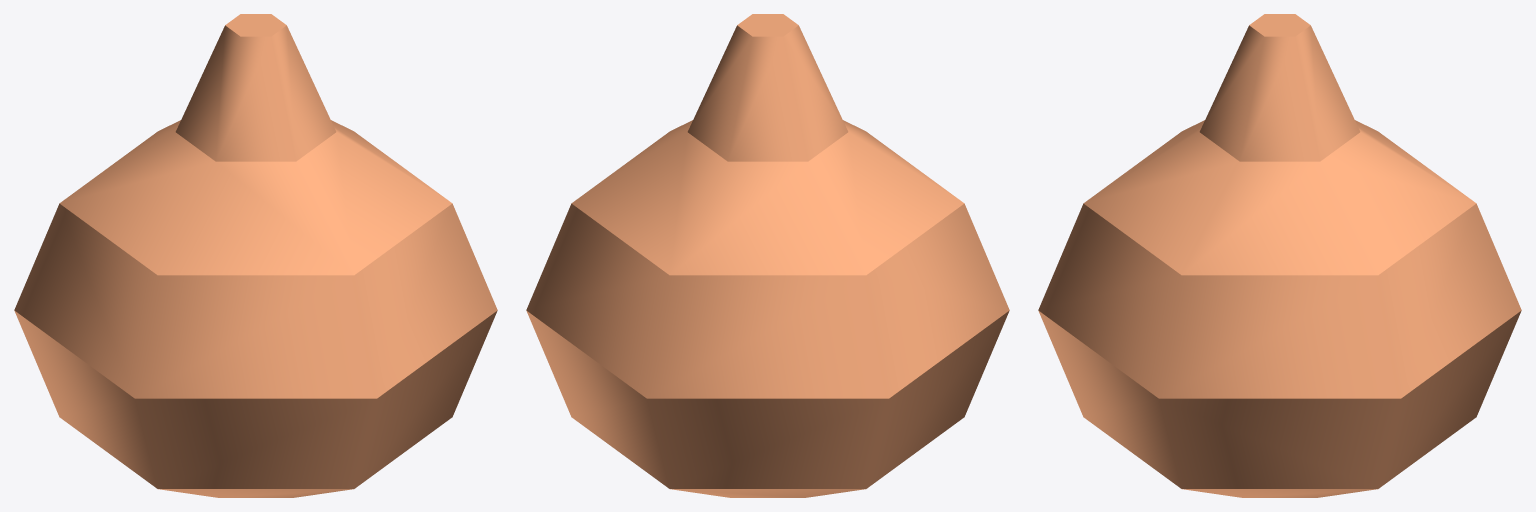
Rendered from onion.obj.
The picture shows the model from 3 angles, left to right: view 1: azimuth 30°, elevation 25°; view 2: azimuth 150°, elevation 25°; view 3: azimuth 270°, elevation 25°; orthographic projection.
Parts seen in each view (by area): view 1: onion; view 2: onion; view 3: onion.
Part boxes in pixels (left/top/right/bottom): onion: left=14, top=14, right=497, bottom=497; onion: left=526, top=14, right=1009, bottom=497; onion: left=1038, top=14, right=1521, bottom=497.
Bounding box in the file's own units: 0.213 × 0.25 × 0.246.
